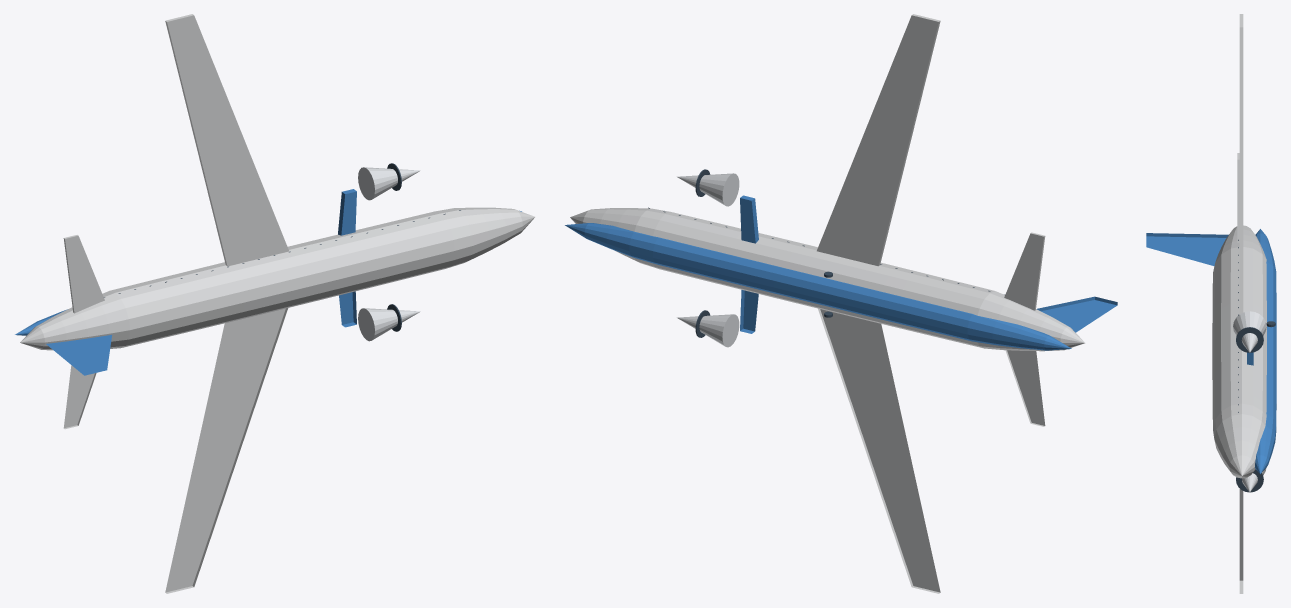
The model's file is boeing_787-8_tracker.glb.
3 renders of one model, left to right at view 1: azimuth 30°, elevation 25°; view 2: azimuth 150°, elevation 25°; view 3: azimuth 270°, elevation 25°, orthographic.
Visible parts, largest first — view 1: 787-8_part_0, 787-8_part_2, 787-8_part_4, 787-8_part_7, 787-8_part_8, 787-8_part_6, 787-8_part_12, 787-8_part_9, 787-8_part_5; view 2: 787-8_part_0, 787-8_part_1, 787-8_part_4, 787-8_part_2, 787-8_part_7, 787-8_part_6, 787-8_part_8, 787-8_part_9, 787-8_part_12, 787-8_part_5; view 3: 787-8_part_0, 787-8_part_1, 787-8_part_8, 787-8_part_4, 787-8_part_12, 787-8_part_2, 787-8_part_13, 787-8_part_7, 787-8_part_10, 787-8_part_9.
Part boxes in pixels (x1,y1,x2,y2): 787-8_part_0: (20,207,534,350); 787-8_part_2: (165,308,288,593); 787-8_part_4: (165,14,288,266); 787-8_part_7: (63,235,104,313); 787-8_part_8: (46,335,111,375); 787-8_part_6: (63,365,96,429); 787-8_part_12: (358,167,420,200); 787-8_part_9: (358,308,420,341); 787-8_part_5: (338,189,356,235); 787-8_part_0: (570,208,1084,351); 787-8_part_1: (565,223,1071,350); 787-8_part_4: (817,14,940,266); 787-8_part_2: (818,308,940,593); 787-8_part_7: (1004,232,1045,310); 787-8_part_6: (1005,350,1045,426); 787-8_part_8: (1036,296,1117,332); 787-8_part_9: (677,314,739,347); 787-8_part_12: (677,173,739,206); 787-8_part_5: (740,195,758,243); 787-8_part_0: (1212,225,1266,478); 787-8_part_1: (1255,229,1276,473); 787-8_part_8: (1146,233,1228,265); 787-8_part_4: (1239,14,1243,313); 787-8_part_12: (1233,311,1266,352); 787-8_part_2: (1239,488,1243,593); 787-8_part_13: (1236,327,1263,352); 787-8_part_7: (1237,153,1239,242); 787-8_part_10: (1236,469,1263,492); 787-8_part_9: (1242,468,1266,491).
Size of the model in its own units: 56.7 by 60.1 by 12.52.
